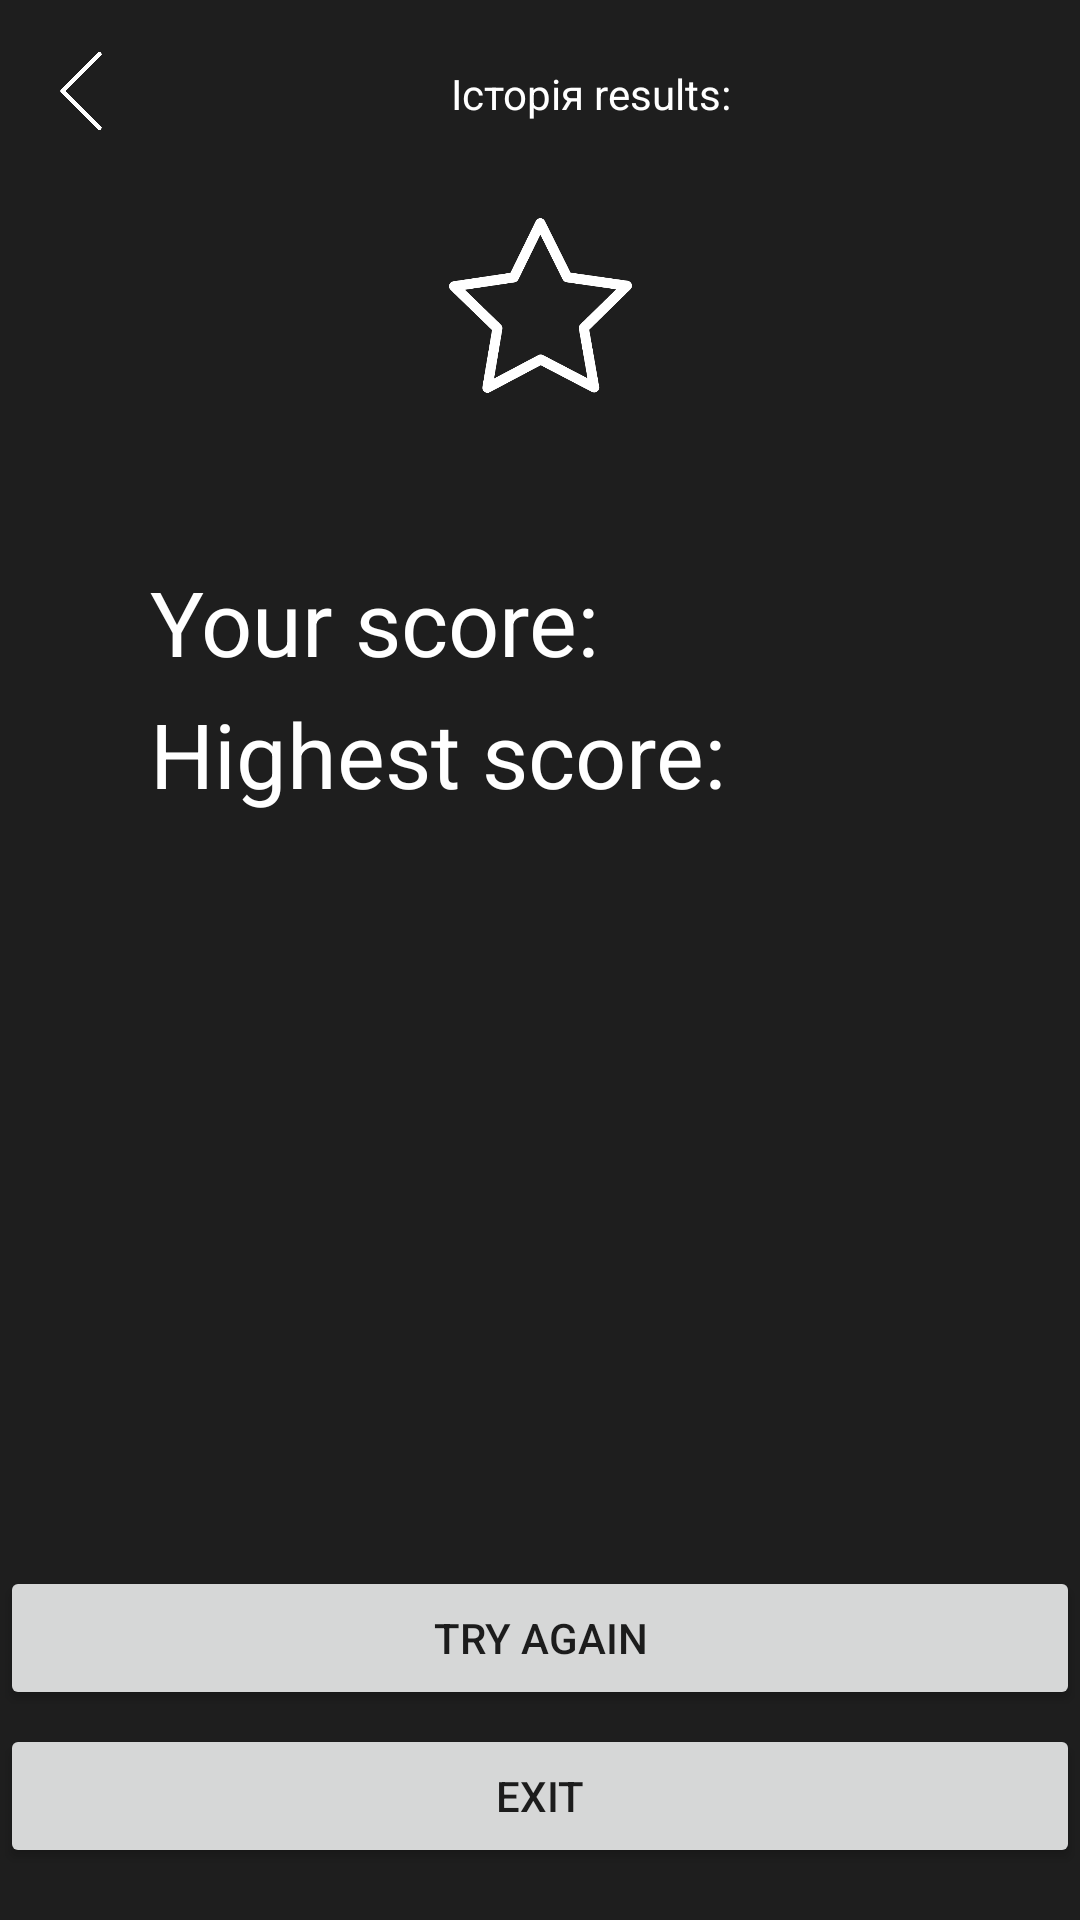

Named icons in this screenshot (1080 × 1920) and their bounding boxes, box=[x1, y1, x2, y2]:
back: box=[60, 52, 102, 130]
star: box=[449, 218, 632, 393]
